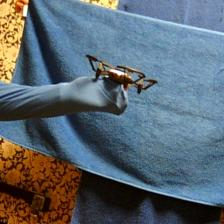drone: (85, 54, 158, 96)
